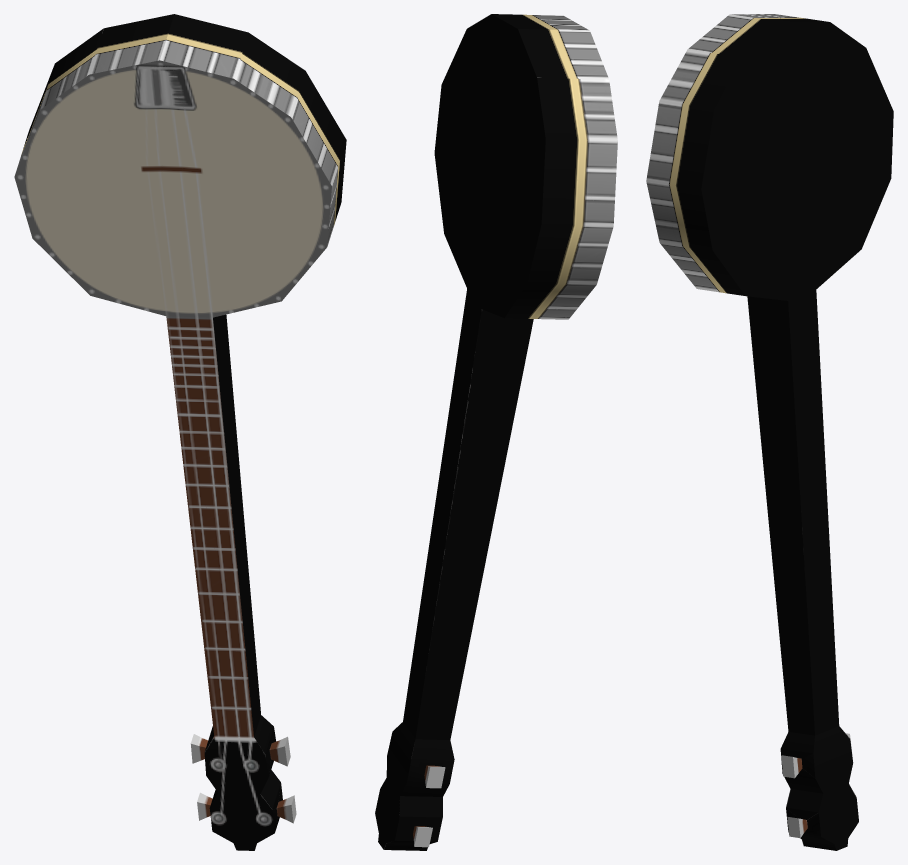
The model's file is Guitarra1_000022.obj.
3 views of the same model, side by side, from view 1: azimuth 30°, elevation 25°; view 2: azimuth 150°, elevation 25°; view 3: azimuth 270°, elevation 25° (orthographic). The views are drawn at different scales.
Visible parts, largest first — view 1: g1_pCube6; view 2: g1_pCube6; view 3: g1_pCube6.
Part boxes in pixels (bbox=[...]): g1_pCube6: bbox=[14, 14, 346, 850]; g1_pCube6: bbox=[375, 14, 617, 850]; g1_pCube6: bbox=[646, 14, 893, 850].
Size of the model in its own units: 4.21 by 13.37 by 3.82.
